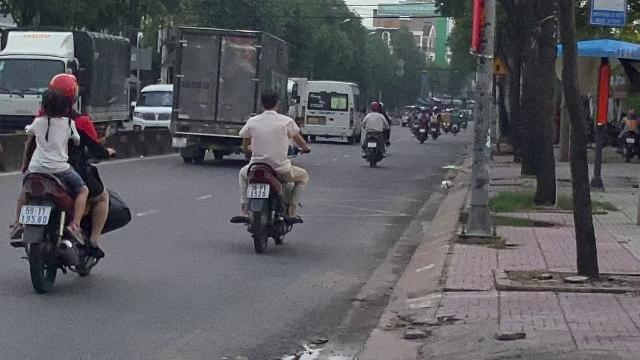helmet: (49, 73, 81, 105)
licenseplate: (18, 204, 50, 224), (247, 183, 269, 197)
motorcyclist: (4, 70, 114, 292), (229, 88, 309, 252)
nohelmet: (40, 90, 66, 124), (258, 90, 280, 112)
